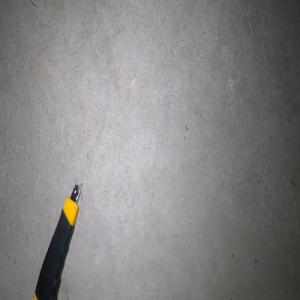Cutter: (34, 183, 83, 300)
